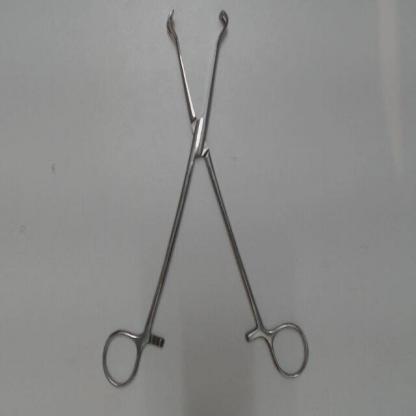8 Babcock Tissue Forceps: (95, 1, 313, 395)
